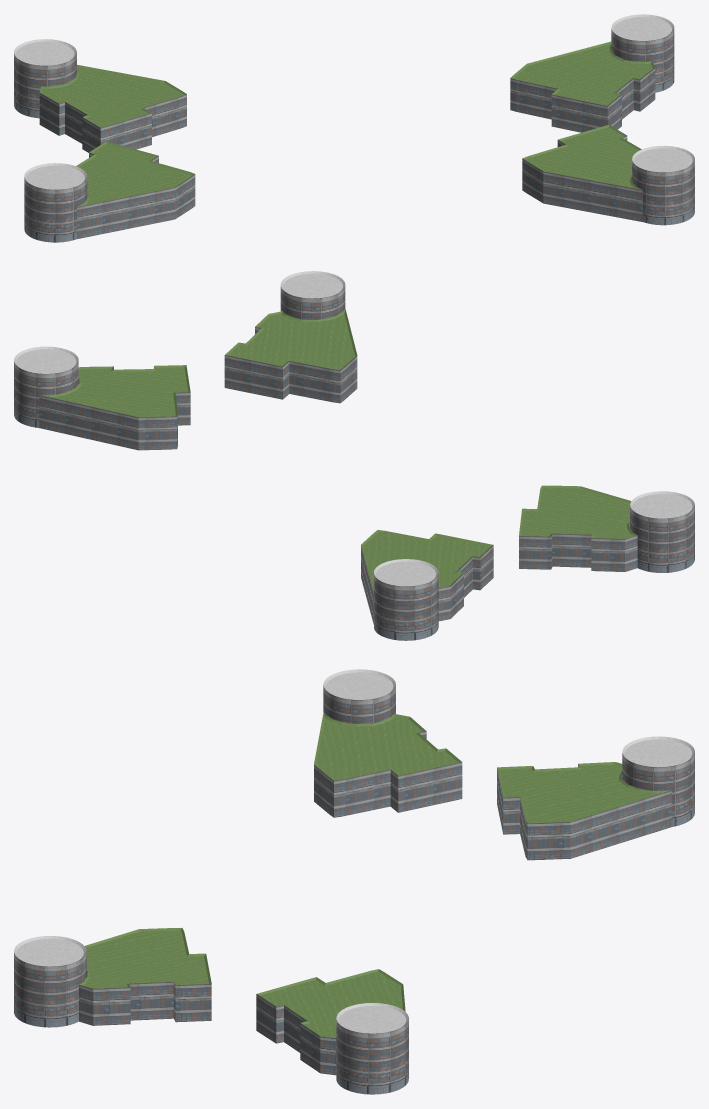
The model's file is shangyelou2.gltf.
3 views of the same model, one above another, from view 1: azimuth 30°, elevation 25°; view 2: azimuth 150°, elevation 25°; view 3: azimuth 270°, elevation 25° (orthographic). The views are drawn at different scales.
Parts seen in each view (by area): view 1: Line3117624, Line3117622, Line3117623, Line3117620; view 2: Line3117622, Line3117620, Line3117623, Line3117624; view 3: Line3117624, Line3117623, Line3117620, Line3117622.
Boxes of the visible parts, x1,y1,x2,y2 form: Line3117624: (14, 39, 186, 152); Line3117622: (510, 14, 674, 132); Line3117623: (522, 125, 694, 225); Line3117620: (24, 141, 195, 242); Line3117622: (14, 346, 190, 450); Line3117620: (519, 485, 694, 572); Line3117623: (224, 271, 357, 403); Line3117624: (361, 530, 493, 640); Line3117624: (497, 736, 694, 860); Line3117623: (14, 928, 211, 1027); Line3117620: (314, 669, 462, 817); Line3117622: (256, 969, 408, 1094).
Bounding box in the file's own units: 2370 × 185 × 1873.
Materials: 20 (20 with a texture image).
